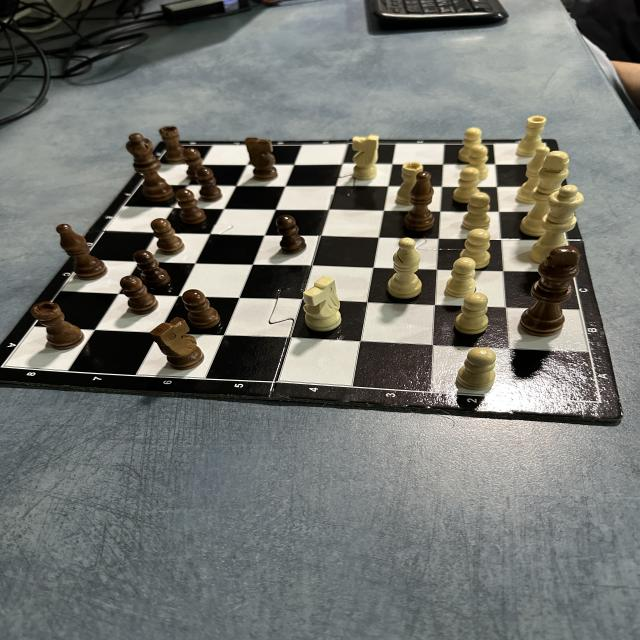Black-Bishop: (55, 223, 108, 281), (404, 171, 435, 232)
Black-King: (520, 245, 580, 337)
Black-Knight: (148, 316, 204, 370), (245, 137, 279, 182)
Black-Pawn: (182, 289, 222, 329), (120, 276, 159, 316), (133, 250, 172, 286), (150, 218, 186, 255), (276, 214, 308, 254), (176, 188, 208, 225), (196, 168, 222, 202), (184, 148, 202, 182)
Black-Queen: (124, 134, 174, 202)
Black-Rook: (30, 301, 86, 350), (160, 125, 187, 165)
White-Bishop: (387, 238, 423, 300), (515, 147, 550, 205)
White-King: (519, 151, 570, 237)
White-Knight: (302, 276, 343, 332), (352, 134, 379, 180)
White-Pawn: (457, 347, 496, 390), (455, 292, 490, 334), (459, 228, 491, 270), (444, 257, 476, 298), (463, 192, 490, 231), (452, 168, 480, 204), (457, 128, 482, 164), (468, 145, 488, 181)
White-Queen: (529, 184, 584, 264)
White-Rook: (516, 115, 546, 158), (395, 162, 424, 205)
